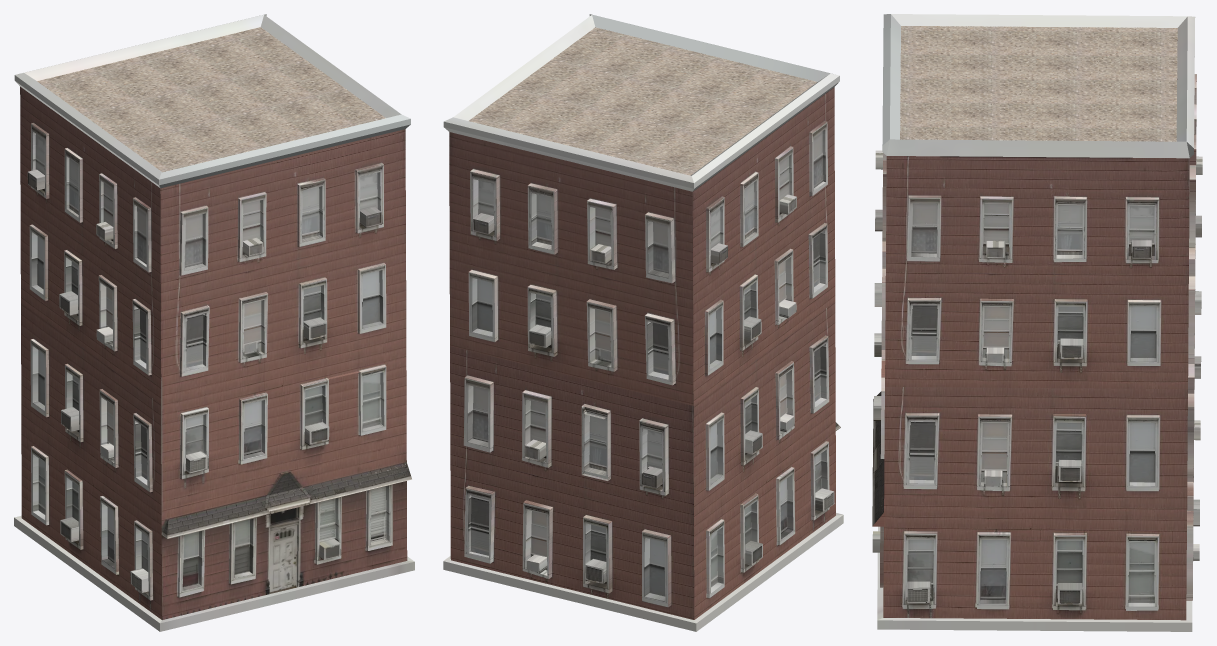
File: edificio_3.glb
3 renders of one model, left to right at view 1: azimuth 30°, elevation 25°; view 2: azimuth 150°, elevation 25°; view 3: azimuth 270°, elevation 25°, orthographic. The views are drawn at different scales.
Visible parts, largest first — view 1: Material_001-material, Material-material; view 2: Material_001-material, Material-material; view 3: Material_001-material, Material-material.
Part boxes in pixels (x1,y1,x2,y2): Material_001-material: (14,14,414,631); Material-material: (37,27,385,172); Material_001-material: (443,14,843,631); Material-material: (469,27,816,175); Material_001-material: (872,14,1202,631); Material-material: (900,26,1177,141).
Bounding box in the file's own units: 6.6 × 10.9 × 6.68.
Materials: 2 (2 with a texture image).
